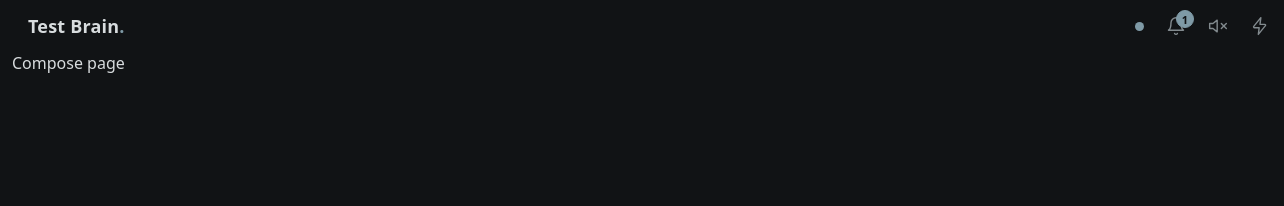
Shell — review bell dropdown › opens the dropdown, lists items, and dismiss POSTs + removes the item
Click the button named "to review": click(1176, 26) [1160,10,1192,42]
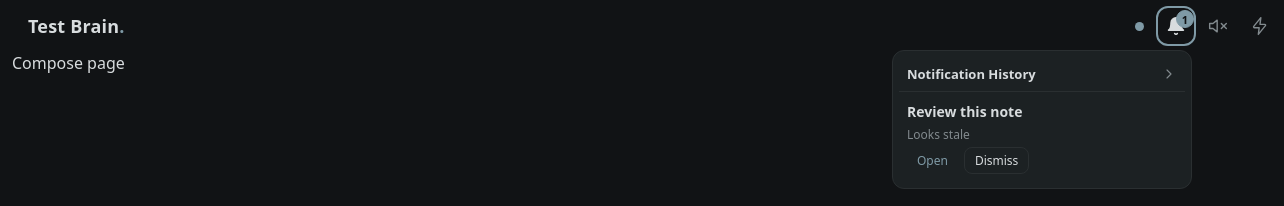
Check: the text "Notification History" is shown, box [907,65,1036,83]
Check: the text "Review this note" is shown, box [907,102,1022,121]
Check: the text "Looks stale" is shown, box [907,126,970,143]
Click the button "Dismiss": click(997, 160) [964,147,1029,174]
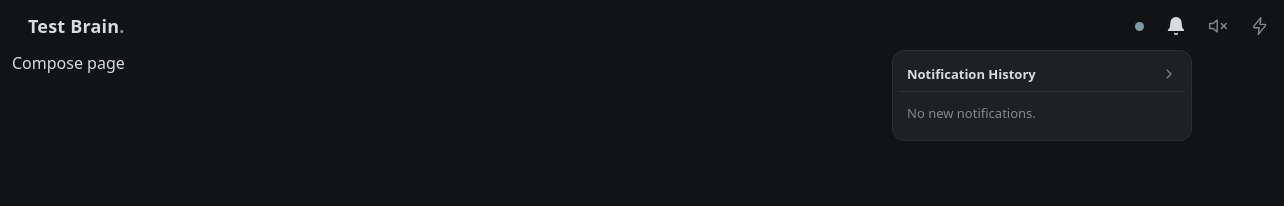
Check: the text "Review this note" is gone
Check: the text "No new notifications." is shown, box [907,104,1036,122]
